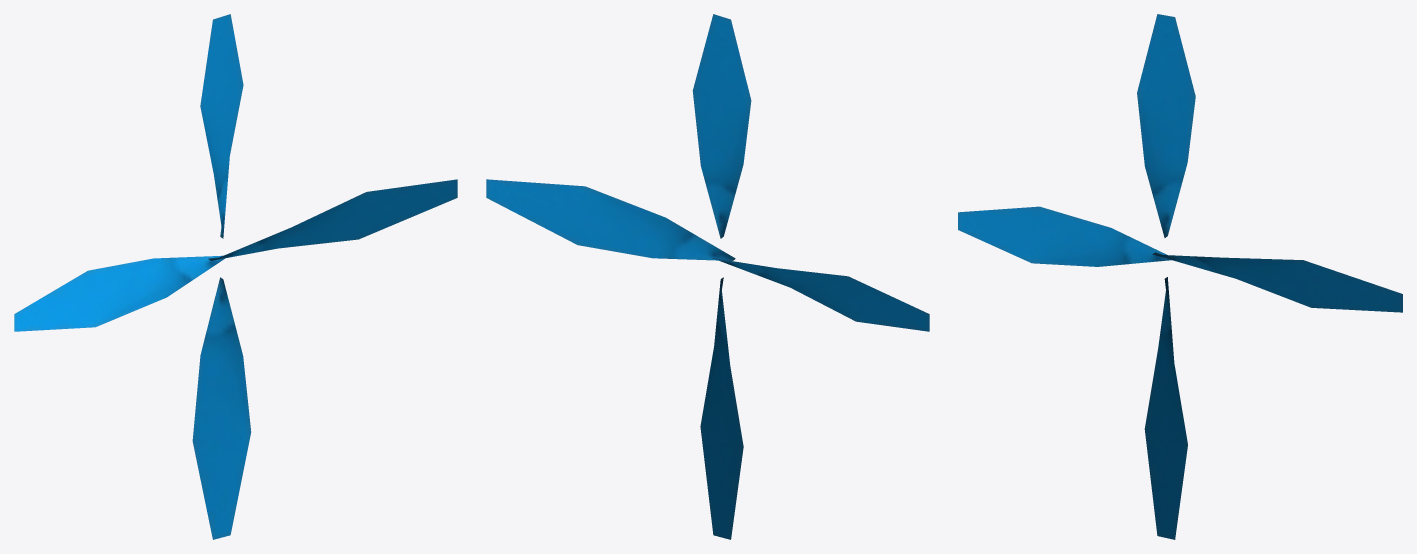
The model's file is plane6_blades4.obj.
3 views of the same model, side by side, from view 1: azimuth 30°, elevation 25°; view 2: azimuth 150°, elevation 25°; view 3: azimuth 330°, elevation 25° (orthographic).
Parts seen in each view (by area): view 1: Catoon_AC130_fan; view 2: Catoon_AC130_fan; view 3: Catoon_AC130_fan.
Boxes of the visible parts, x1,y1,x2,y2 form: Catoon_AC130_fan: [14, 14, 457, 539]; Catoon_AC130_fan: [486, 14, 929, 539]; Catoon_AC130_fan: [958, 14, 1402, 539].
Bounding box in the file's own units: 12.47 × 14.02 × 0.649.
Materials: 1 (1 with a texture image).
